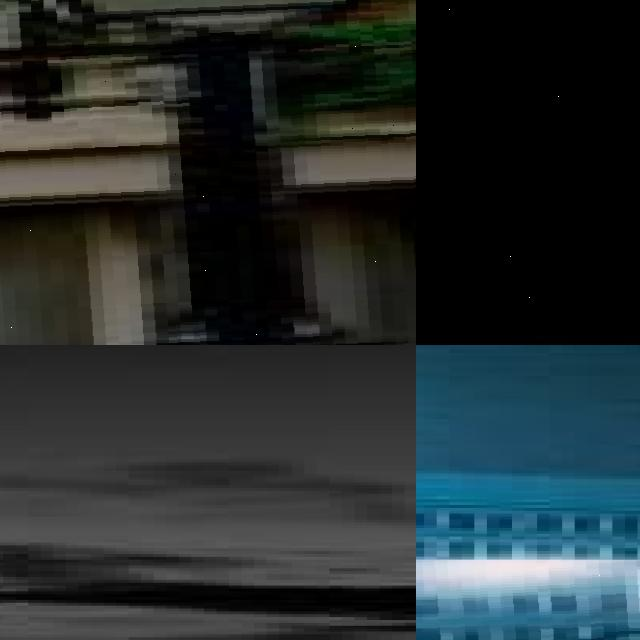street light: (0, 0, 416, 345), (416, 0, 640, 345), (416, 67, 640, 345), (416, 254, 640, 345), (422, 559, 640, 640)
